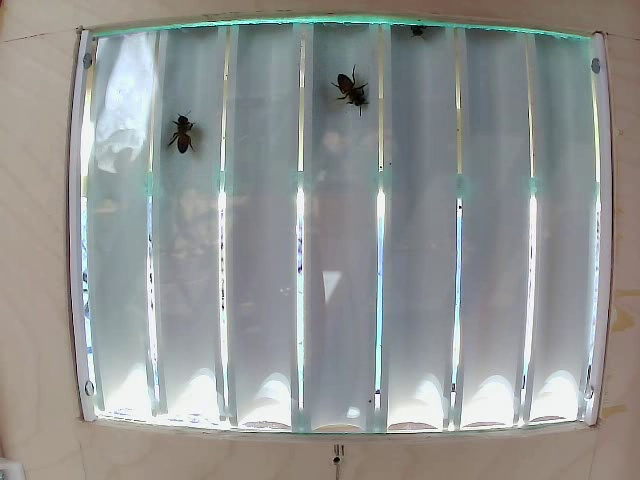bee: (335, 76, 385, 124), (168, 126, 208, 173)
